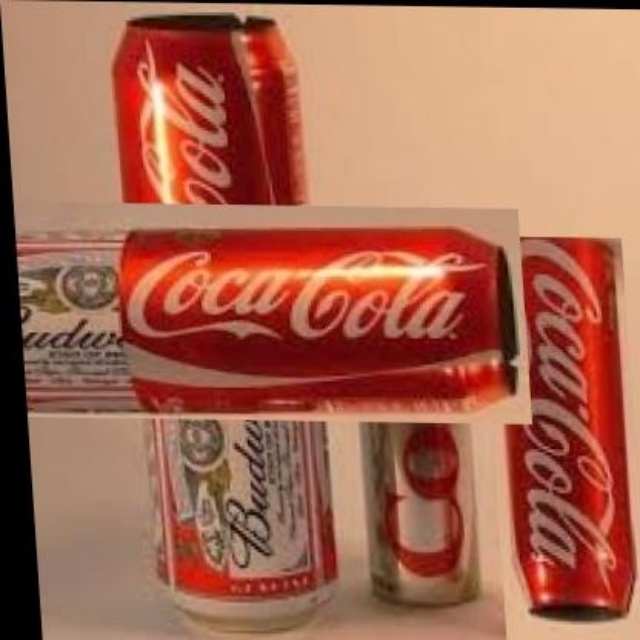trash: (120, 228, 515, 411), (508, 237, 634, 618), (154, 418, 335, 629), (114, 15, 303, 203), (18, 234, 138, 411), (362, 423, 477, 603)
